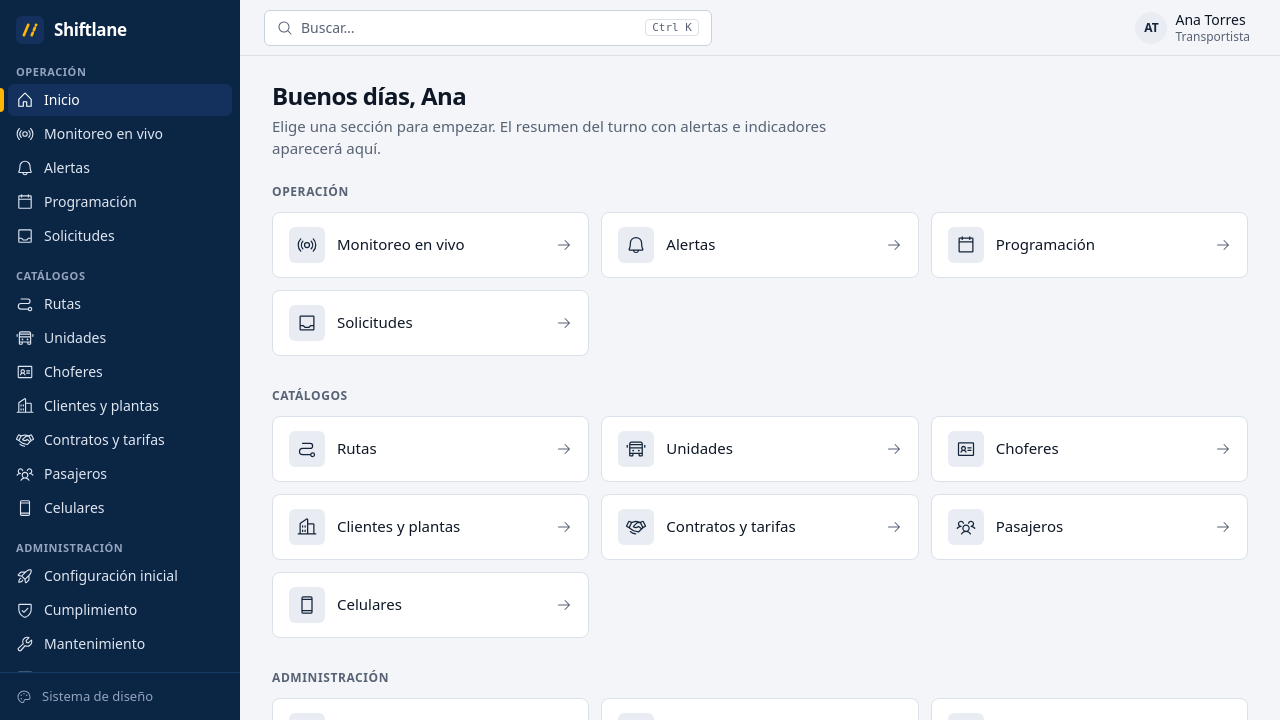
Test case: marco del panel › cambiar de cuenta cierra la sesión y abre el acceso con el correo
Click the button with aria-label "Mi cuenta": (1193, 28) [1130, 7, 1256, 48]
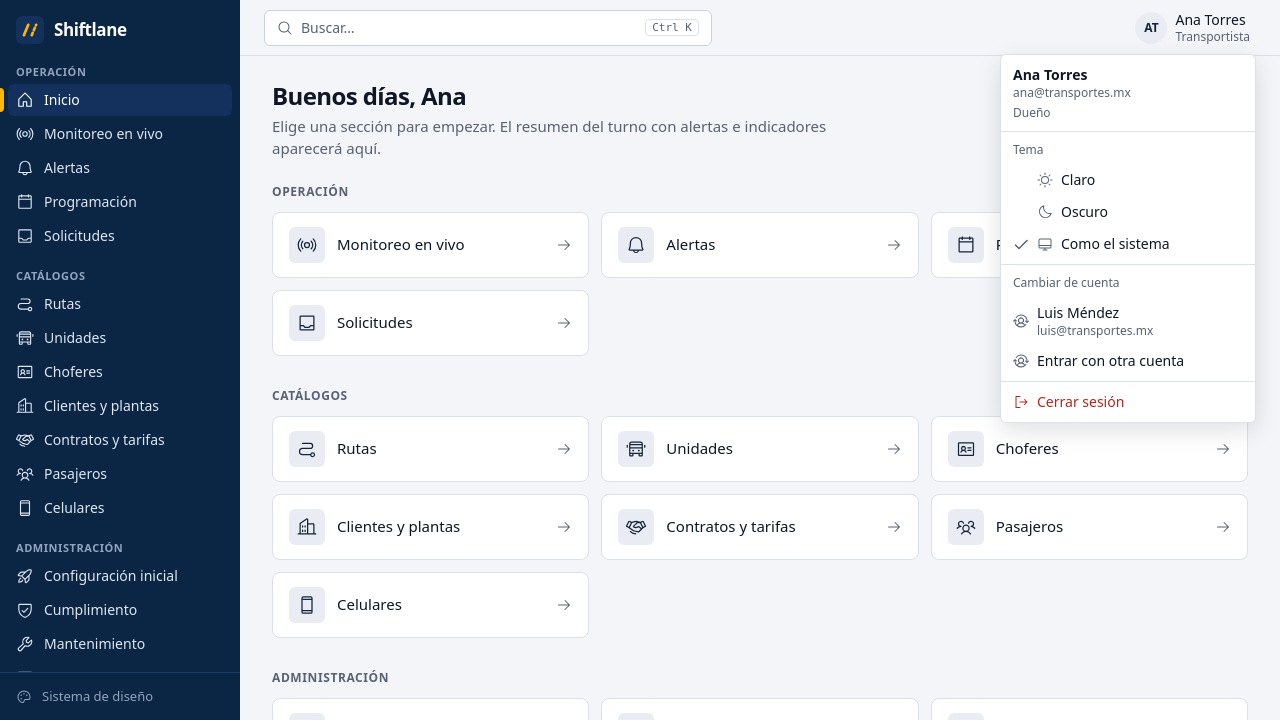
Click the menu item "Luis Méndez luis@transportes.mx": (1083, 321) [1013, 303, 1153, 339]
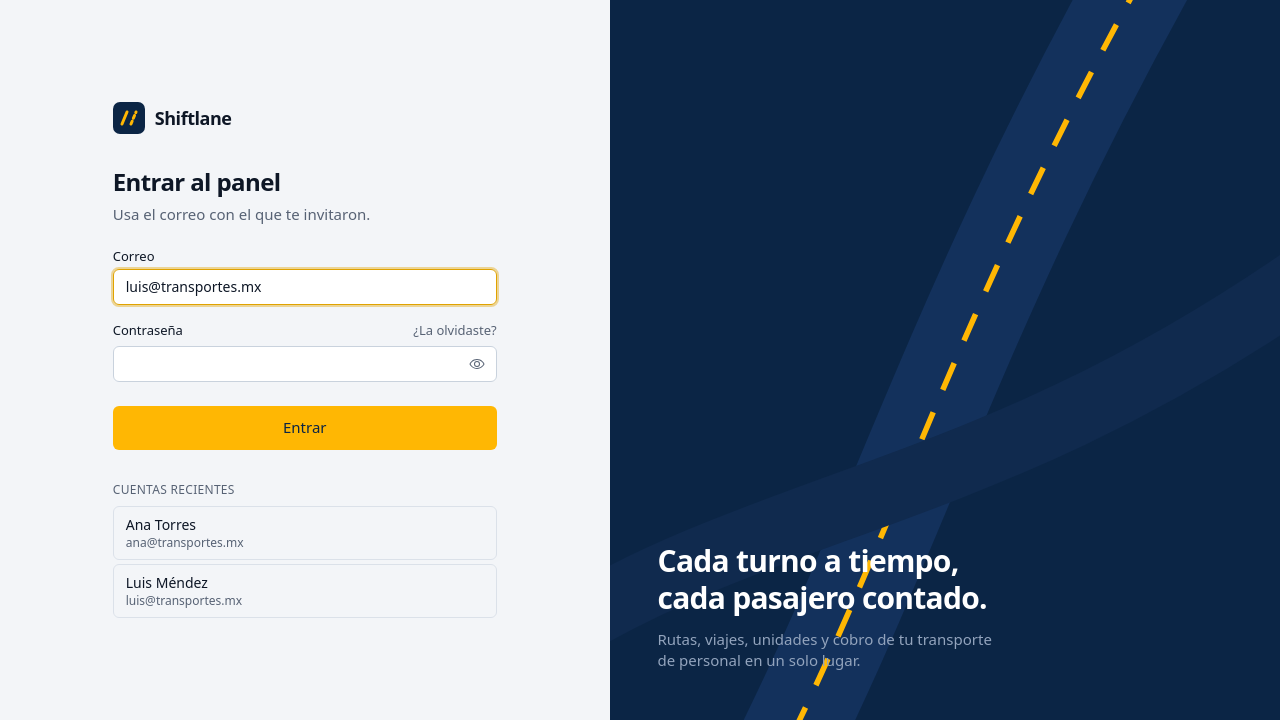
Check: the field labelled "Correo" holds "luis@transportes.mx", box [113, 269, 497, 305]
